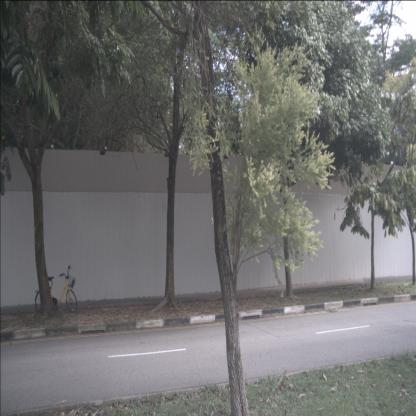vehicle-bicycle: (35, 264, 77, 313)
